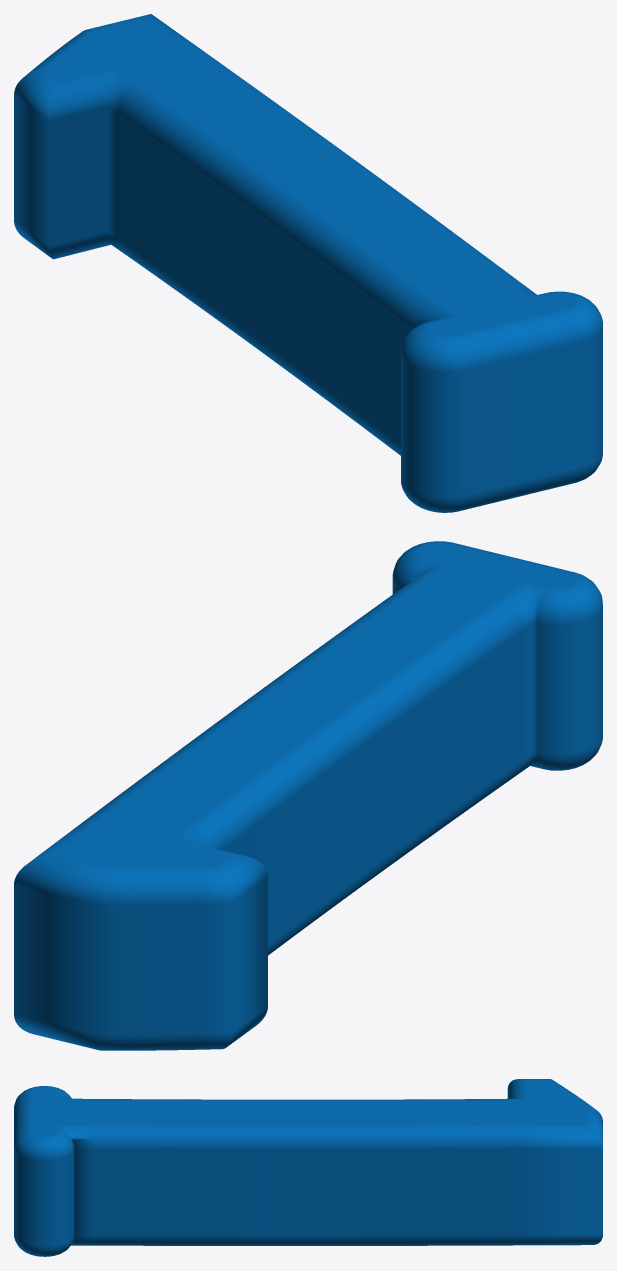
3 renders of one model, top to bottom at view 1: azimuth 30°, elevation 25°; view 2: azimuth 150°, elevation 25°; view 3: azimuth 270°, elevation 25°, orthographic. The views are drawn at different scales.
Parts seen in each view (by area): view 1: 1; view 2: 1; view 3: 1.
Part boxes in pixels (x1=…): 1: x1=14, y1=14, x2=602, y2=512; 1: x1=14, y1=541, x2=602, y2=1050; 1: x1=14, y1=1079, x2=602, y2=1256.
Size of the model in its own units: 42.41 by 33.4 by 149.
